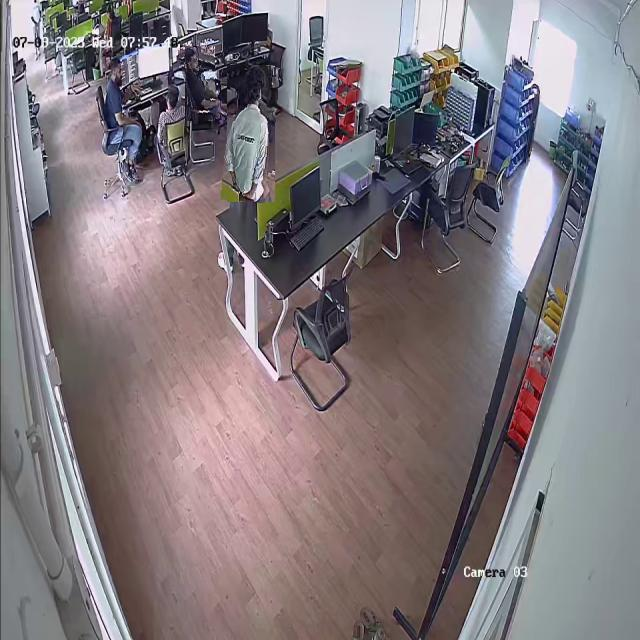person: (224, 64, 278, 203), (103, 56, 142, 186), (181, 45, 219, 122)
